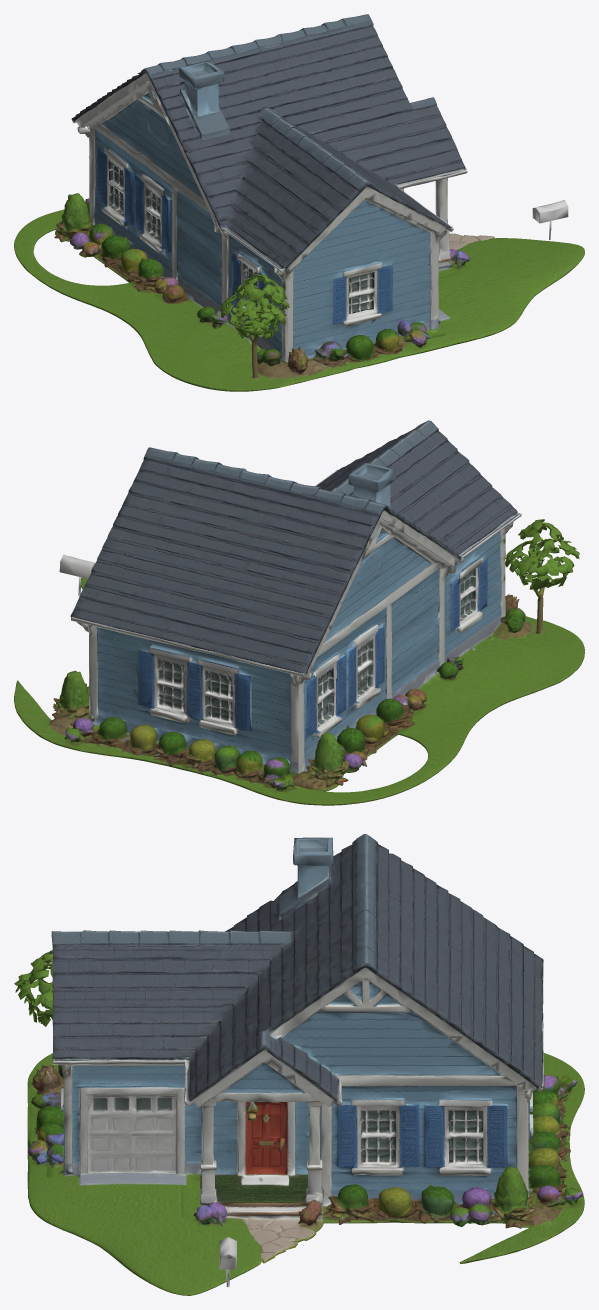
The model's file is house_1storyC_blue.glb.
3 renders of one model, top to bottom at view 1: azimuth 30°, elevation 25°; view 2: azimuth 150°, elevation 25°; view 3: azimuth 270°, elevation 25°, orthographic. The views are drawn at different scales.
Visible parts, largest first — view 1: tripo_node_41460125-606e-45ec-b011-a2fd707ee294; view 2: tripo_node_41460125-606e-45ec-b011-a2fd707ee294; view 3: tripo_node_41460125-606e-45ec-b011-a2fd707ee294.
Boxes of the visible parts, left/top/right/bottom form: tripo_node_41460125-606e-45ec-b011-a2fd707ee294: left=14, top=14, right=584, bottom=391; tripo_node_41460125-606e-45ec-b011-a2fd707ee294: left=14, top=420, right=584, bottom=805; tripo_node_41460125-606e-45ec-b011-a2fd707ee294: left=14, top=834, right=584, bottom=1295.
Bounding box in the file's own units: 1 × 0.4771 × 0.9449.
1 material, 1 textured.
